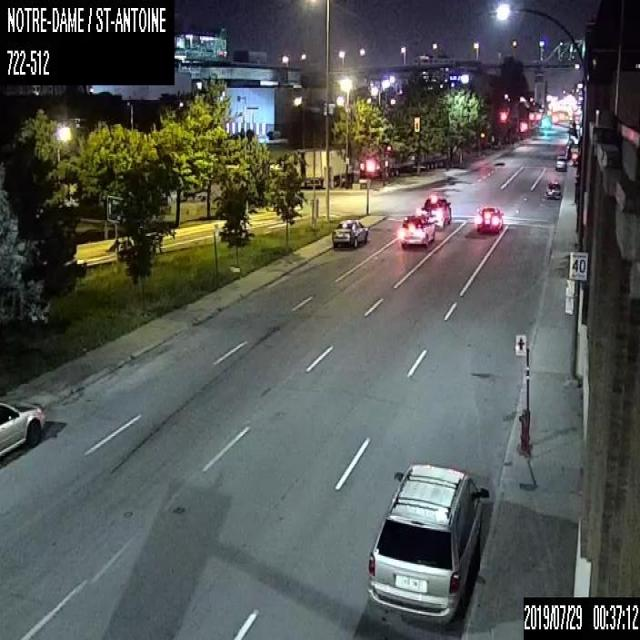vehicle: (364, 462, 490, 626), (0, 398, 45, 462), (399, 212, 437, 249), (331, 217, 368, 248), (420, 194, 451, 228), (476, 206, 502, 233), (544, 178, 561, 198), (554, 154, 566, 169)
